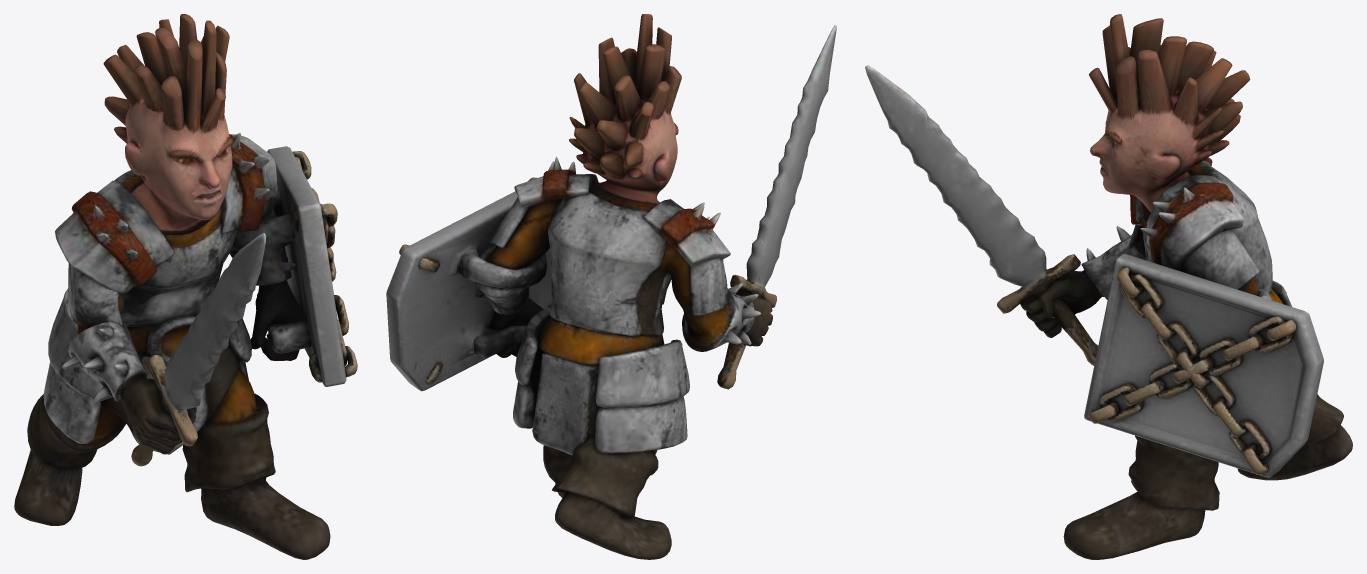
The model's file is MZ4250 - DuergarStoneGuard_Alt1.glb.
3 renders of one model, left to right at view 1: azimuth 30°, elevation 25°; view 2: azimuth 150°, elevation 25°; view 3: azimuth 270°, elevation 25°, orthographic. The views are drawn at different scales.
Parts seen in each view (by area): view 1: Duergar Stone Guard.001; view 2: Duergar Stone Guard.001; view 3: Duergar Stone Guard.001.
Part boxes in pixels (bbox=[...]): Duergar Stone Guard.001: bbox=[14, 14, 357, 559]; Duergar Stone Guard.001: bbox=[386, 14, 836, 559]; Duergar Stone Guard.001: bbox=[865, 14, 1352, 559].
Bounding box in the file's own units: 17.63 × 27.7 × 24.49.
1 material, 1 textured.
